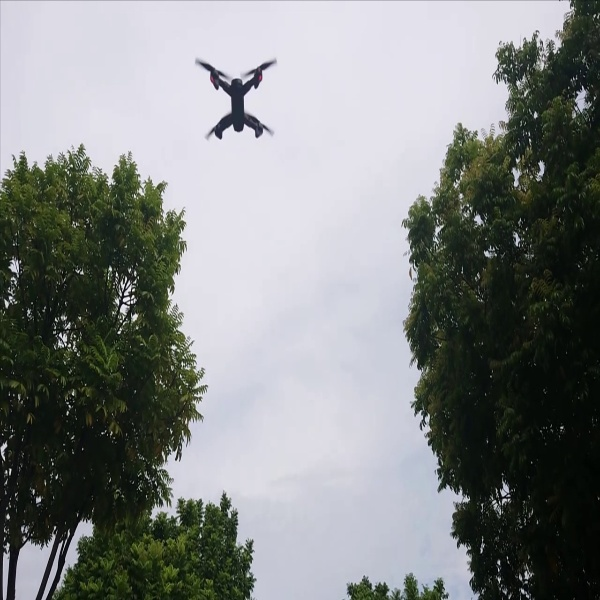drone: (186, 51, 279, 149)
